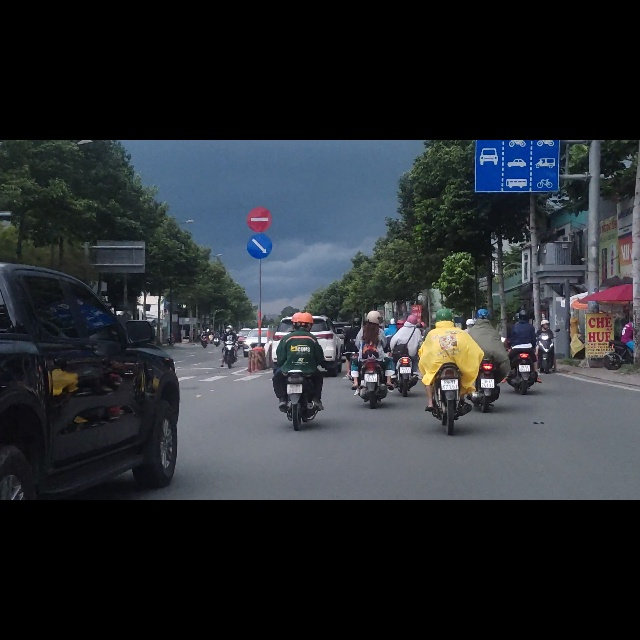bien_cam: (247, 118, 273, 165), (247, 166, 273, 212)
